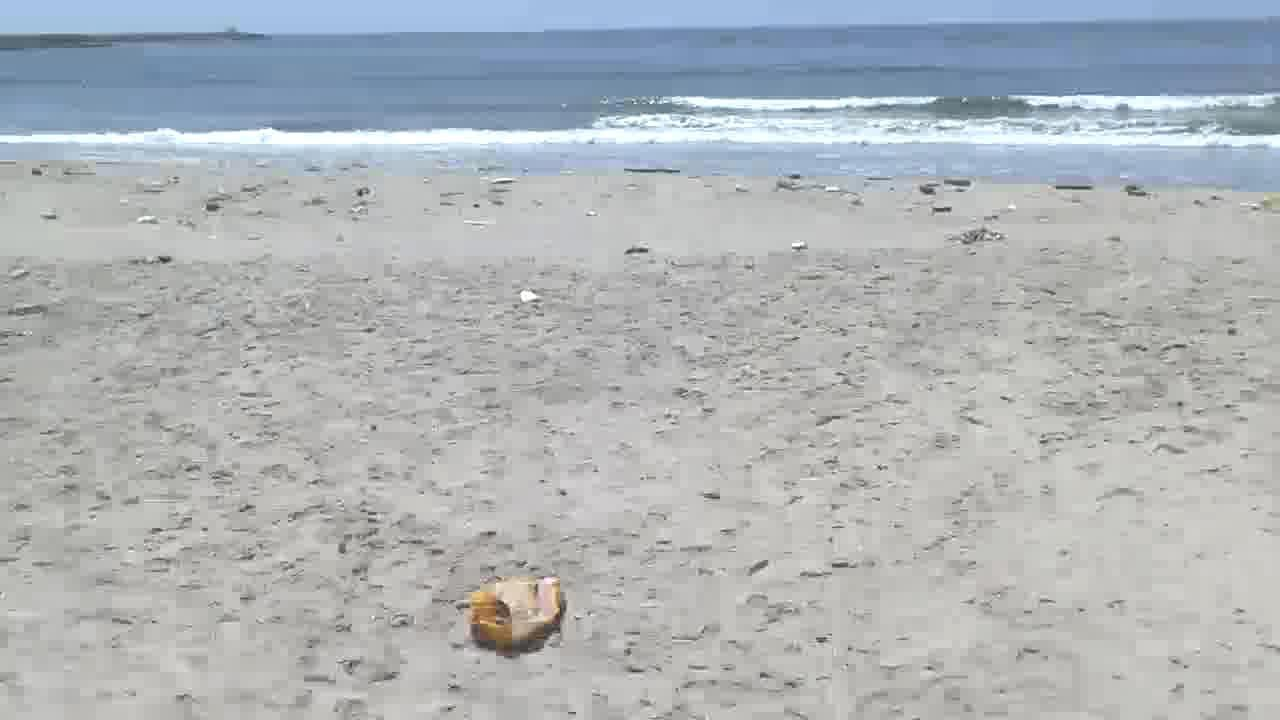obj: (461, 568, 570, 656), (919, 175, 976, 198), (620, 240, 652, 256), (1048, 183, 1098, 192), (520, 286, 545, 304)
sand/background: (2, 0, 1279, 192)
